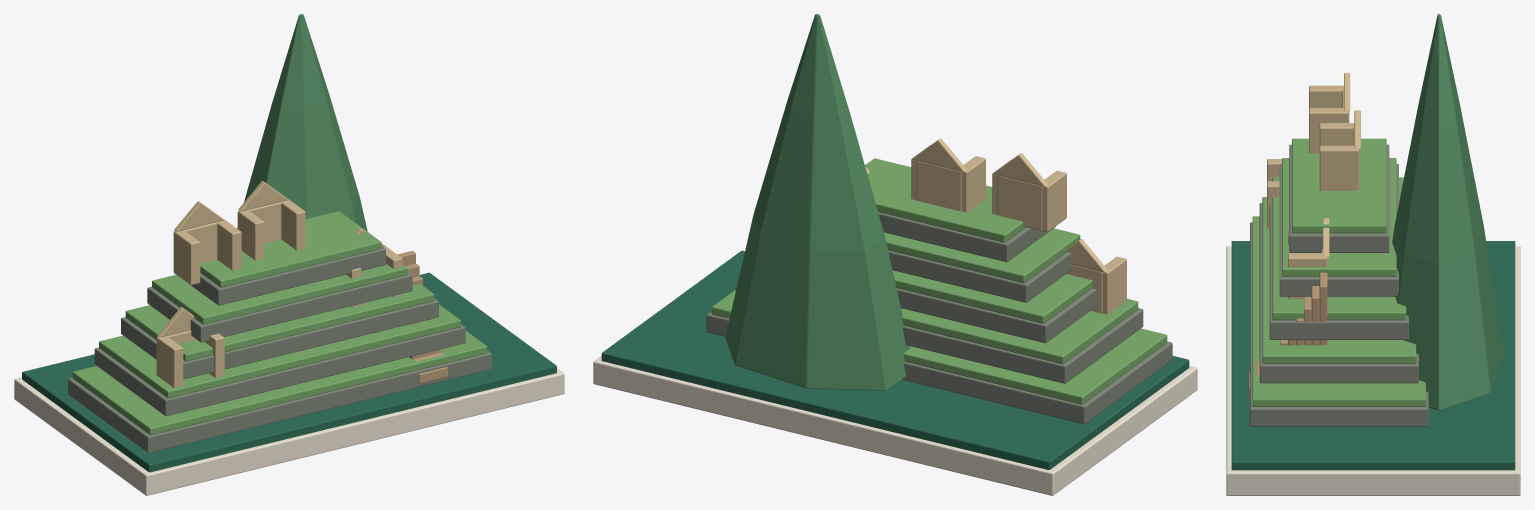
File: machu-picchu.glb
3 views of the same model, side by side, from view 1: azimuth 30°, elevation 25°; view 2: azimuth 150°, elevation 25°; view 3: azimuth 270°, elevation 25° (orthographic). The views are drawn at different scales.
Parts seen in each view (by area): view 1: Machu Picchu; view 2: Machu Picchu; view 3: Machu Picchu.
Part boxes in pixels (x1=…): Machu Picchu: x1=14, y1=14, x2=564, y2=495; Machu Picchu: x1=593, y1=14, x2=1197, y2=495; Machu Picchu: x1=1226, y1=14, x2=1520, y2=495.
Size of the model in its own units: 1.47 by 1.18 by 0.8064.
